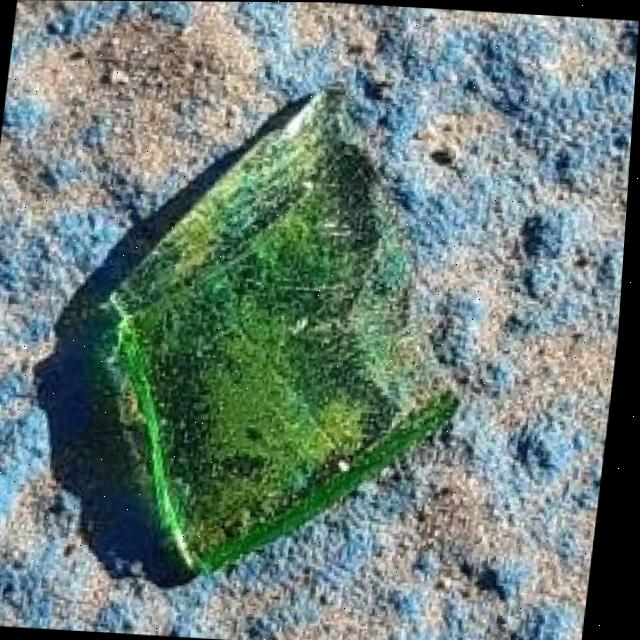Dry: (85, 79, 474, 594)
